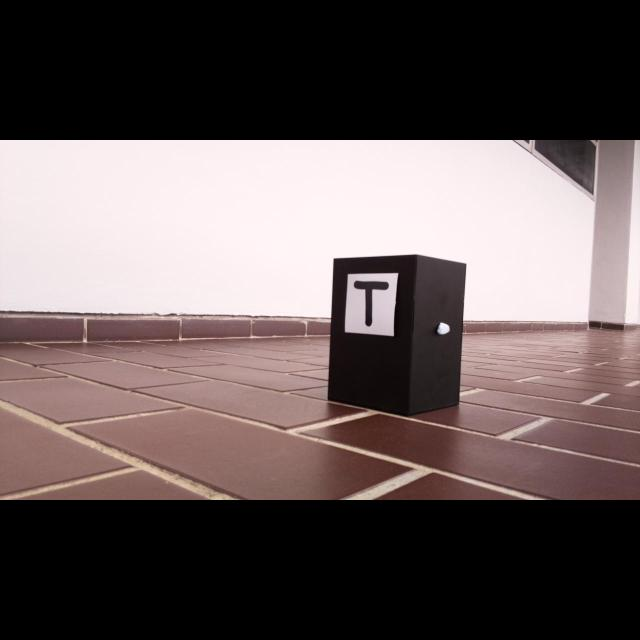T: (353, 281, 389, 327)
